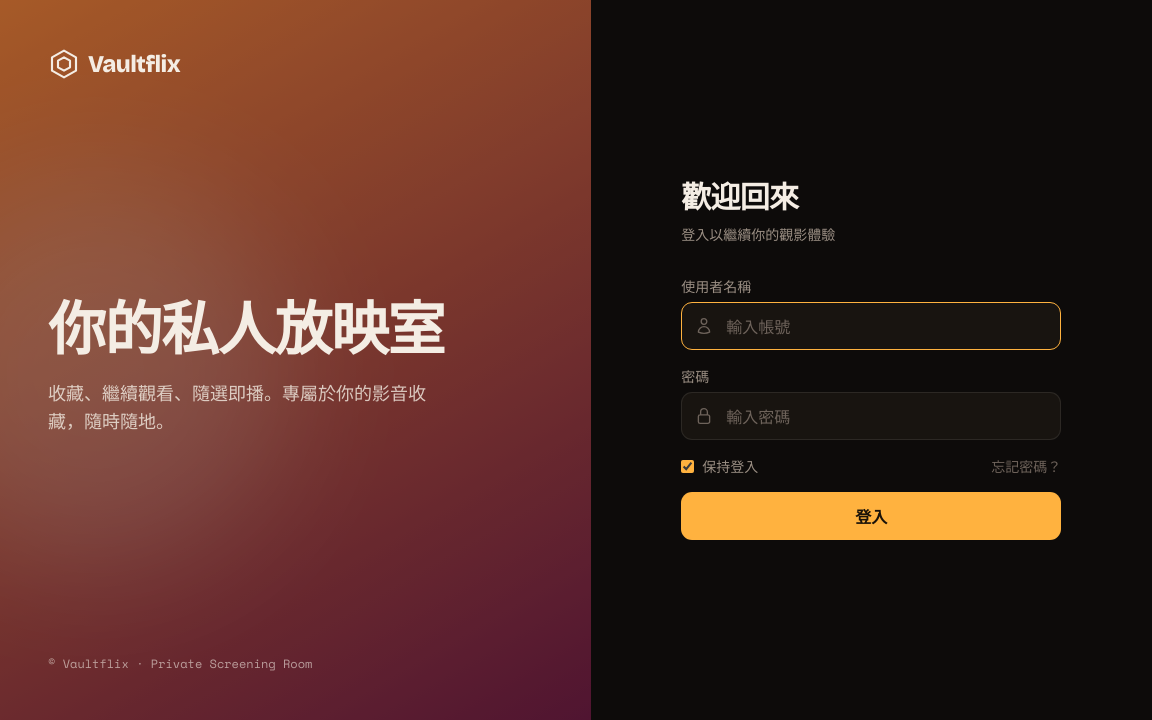
LoginPage › says why a login failed: wrong password
Type "steven" into the field with placeholder "輸入帳號" at x=871, y=326, box left=681, top=302, right=1061, bottom=350
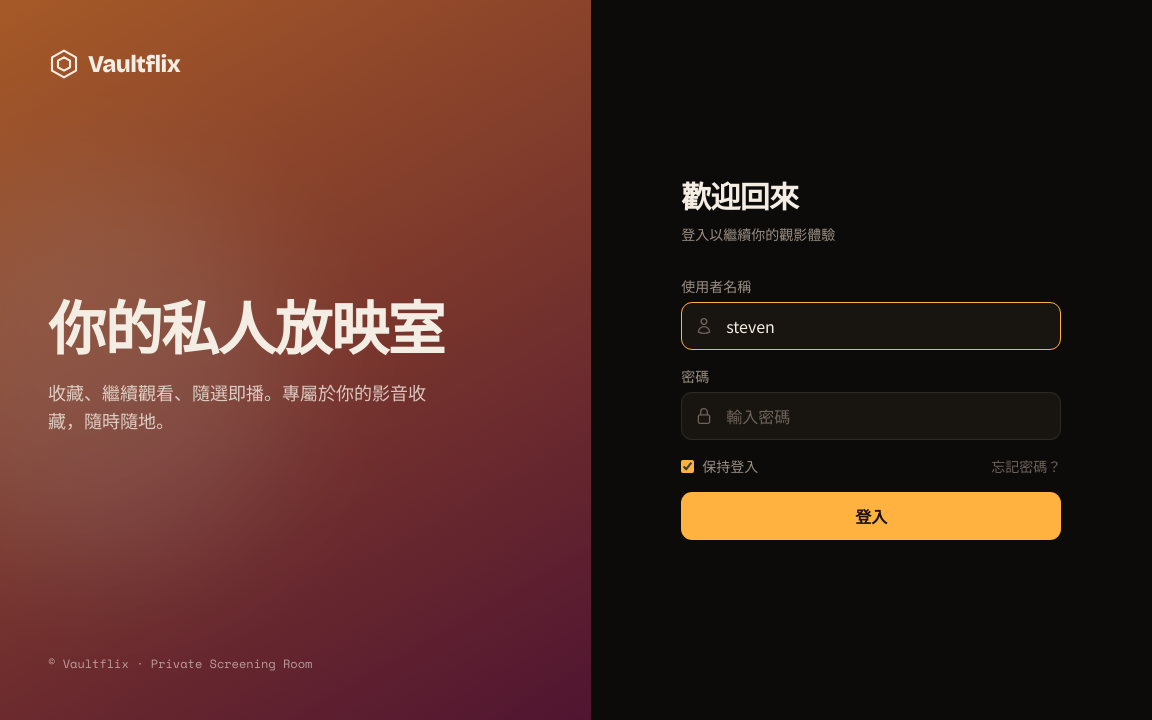
Type "wrong" into the password field with placeholder "輸入密碼" at x=871, y=416, box left=681, top=392, right=1061, bottom=440
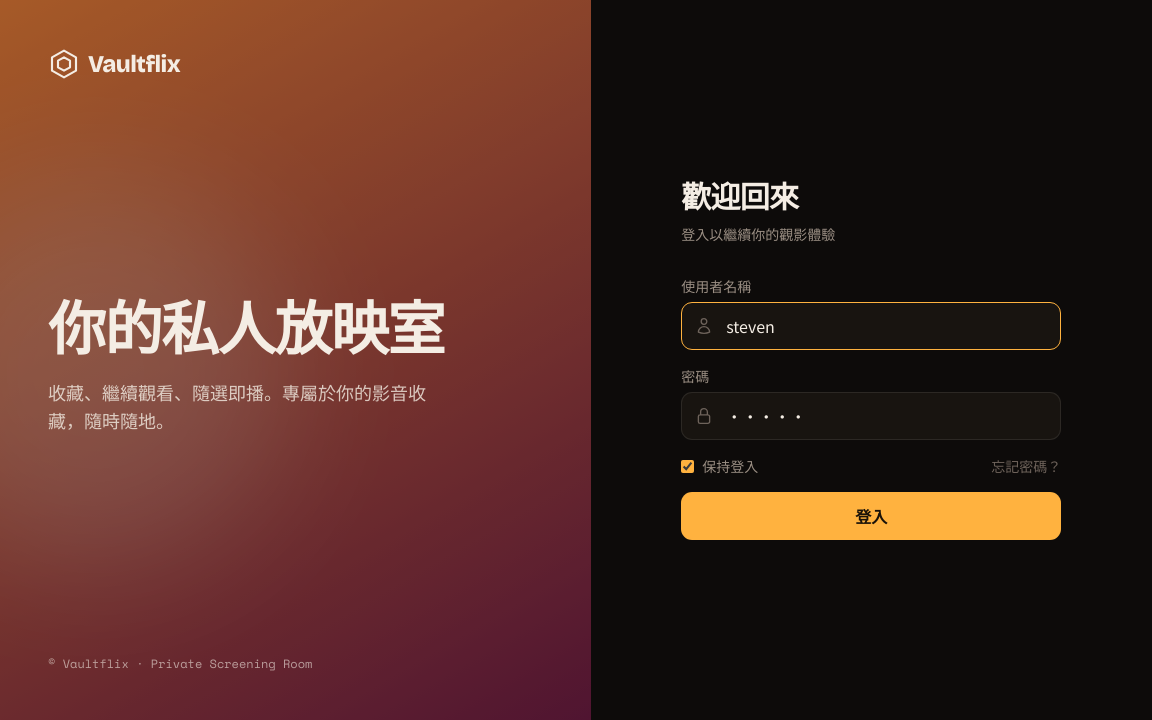
Submit the form with placeholder "輸入密碼", box left=681, top=276, right=1061, bottom=540
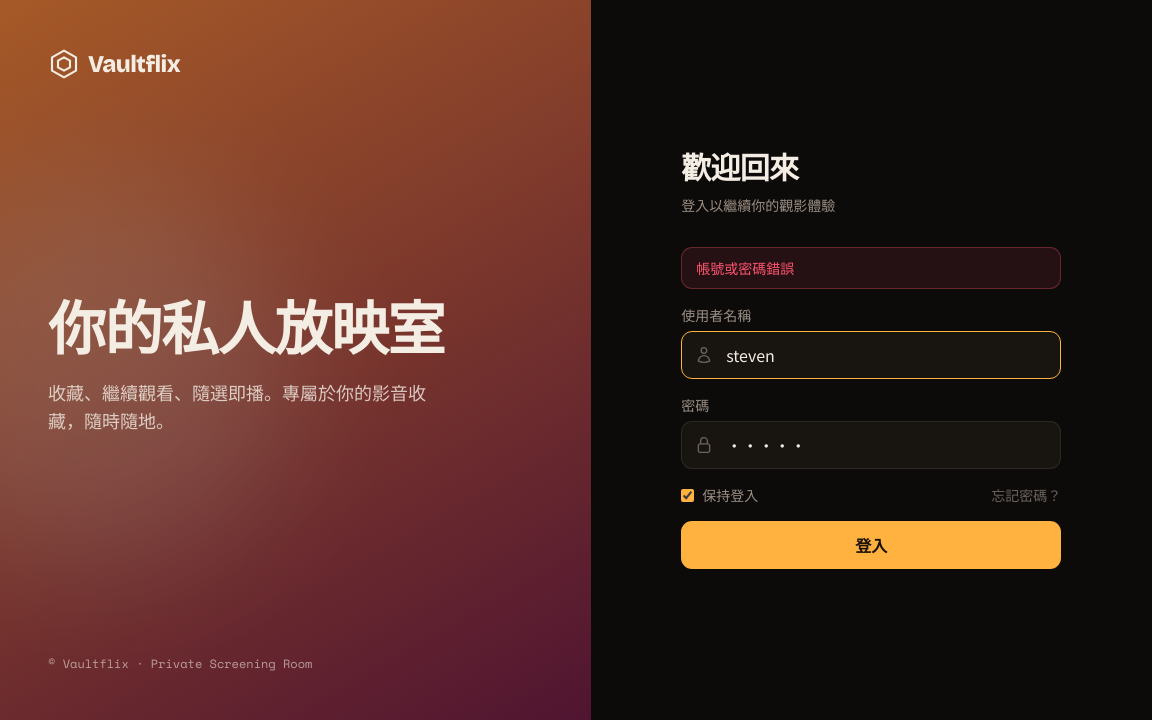
Result: the button "帳號或密碼錯誤" is shown at left=681, top=247, right=1061, bottom=289
